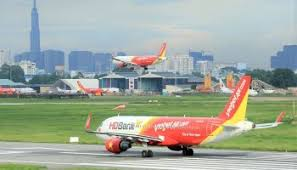maybay_dansu: (84, 97, 276, 153), (109, 48, 175, 71)
